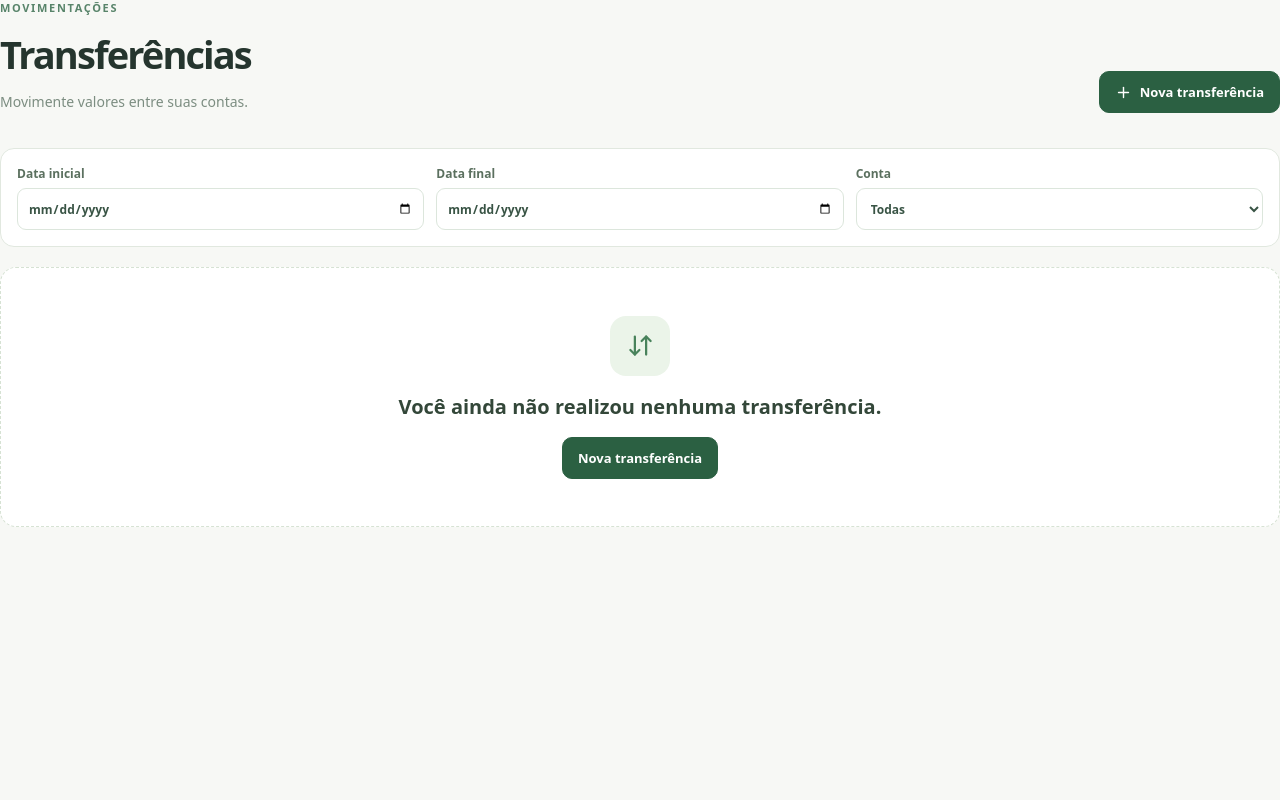
8: destino obrigatório
The width and height of the screenshot is (1280, 800).
Click the button "Nova transferência" in the row of "Transferências".
click(1189, 92)  # box [1099,71,1279,113]
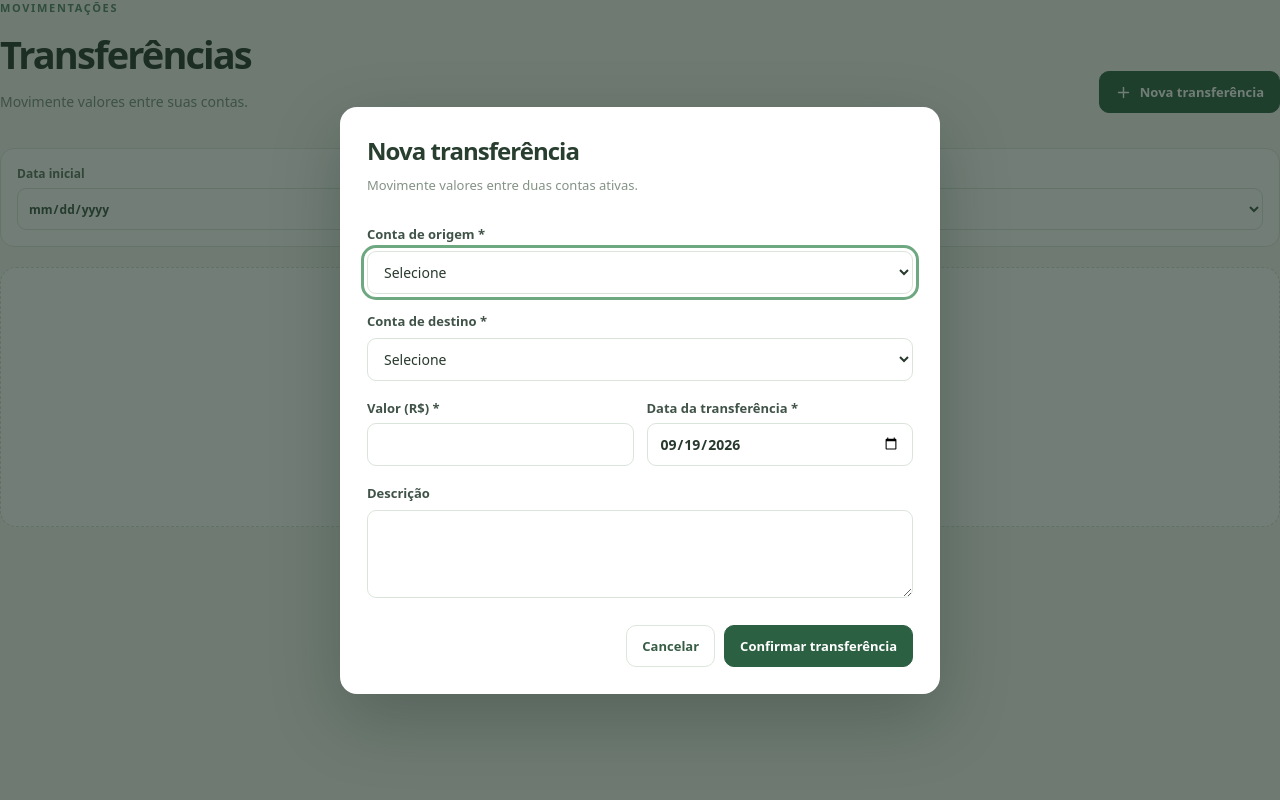
Select "Itaú" in the dropdown labelled "Conta de origem *" at [640, 272], box [367,250,913,294]
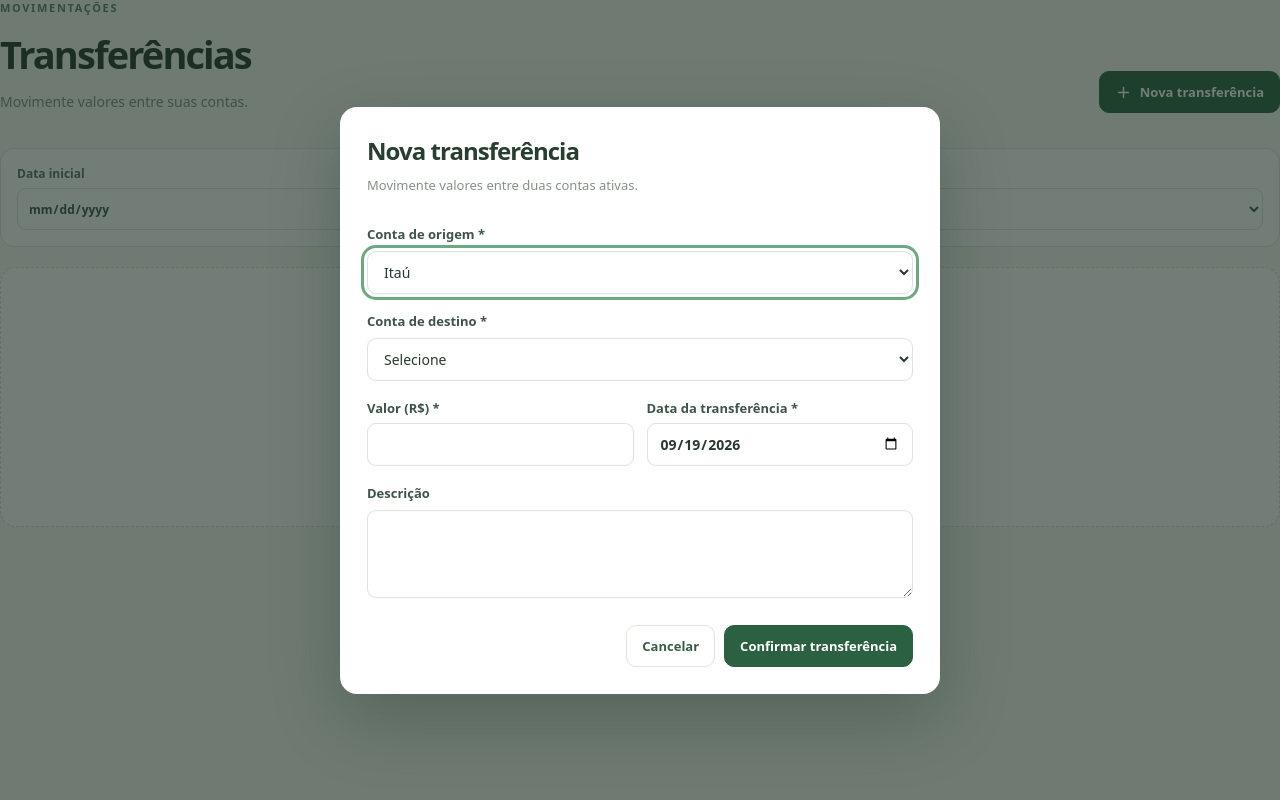
Click the button "Confirmar transferência".
click(819, 646)  # box [724,624,913,666]
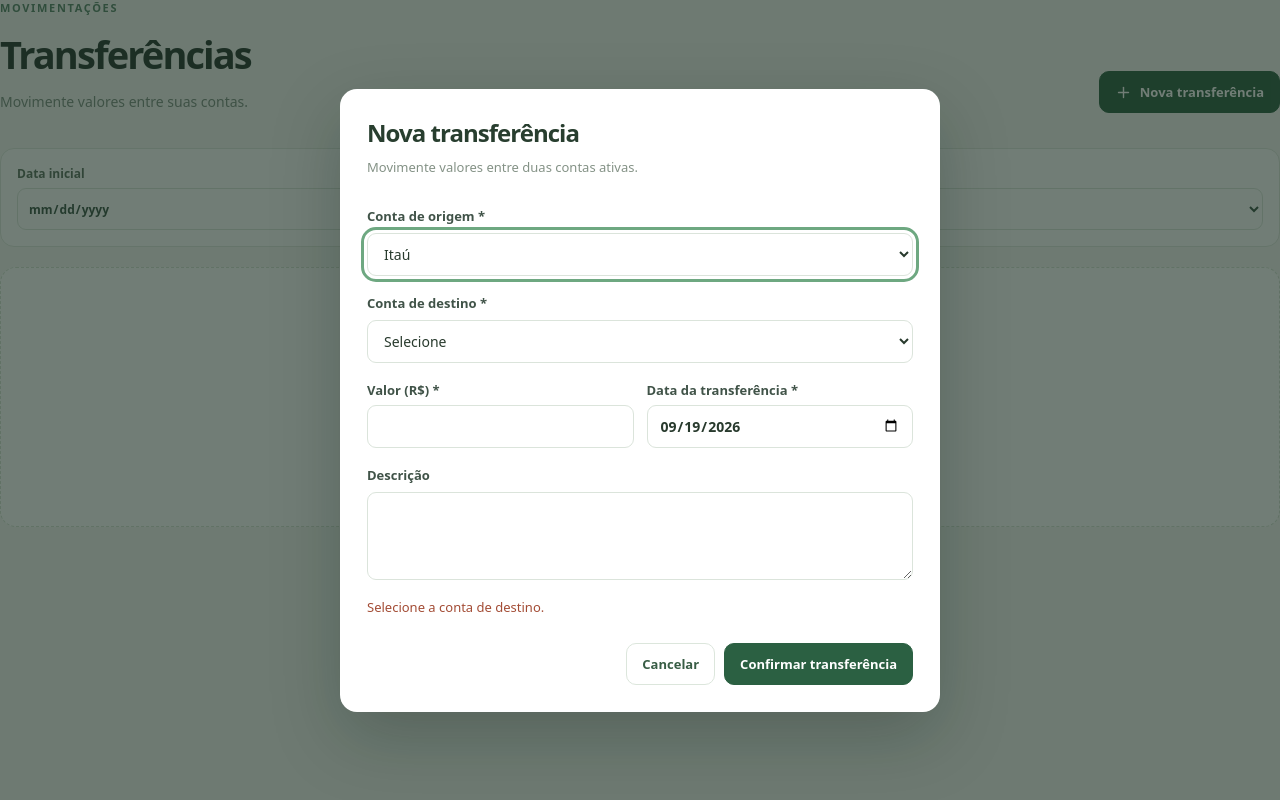
Expected: the message shows "destino", [367,598,544,616]
